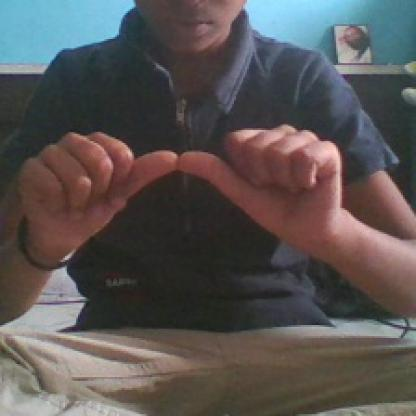A: (14, 122, 354, 252)
